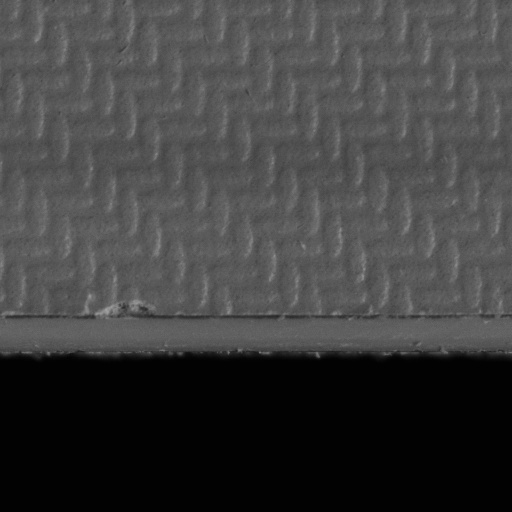bengque: (89, 300, 160, 321)
